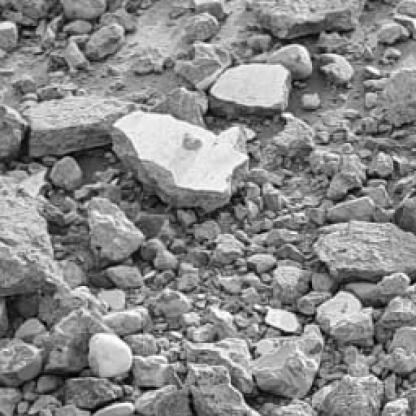cementitious_debris: (3, 0, 414, 414), (8, 3, 156, 108)
